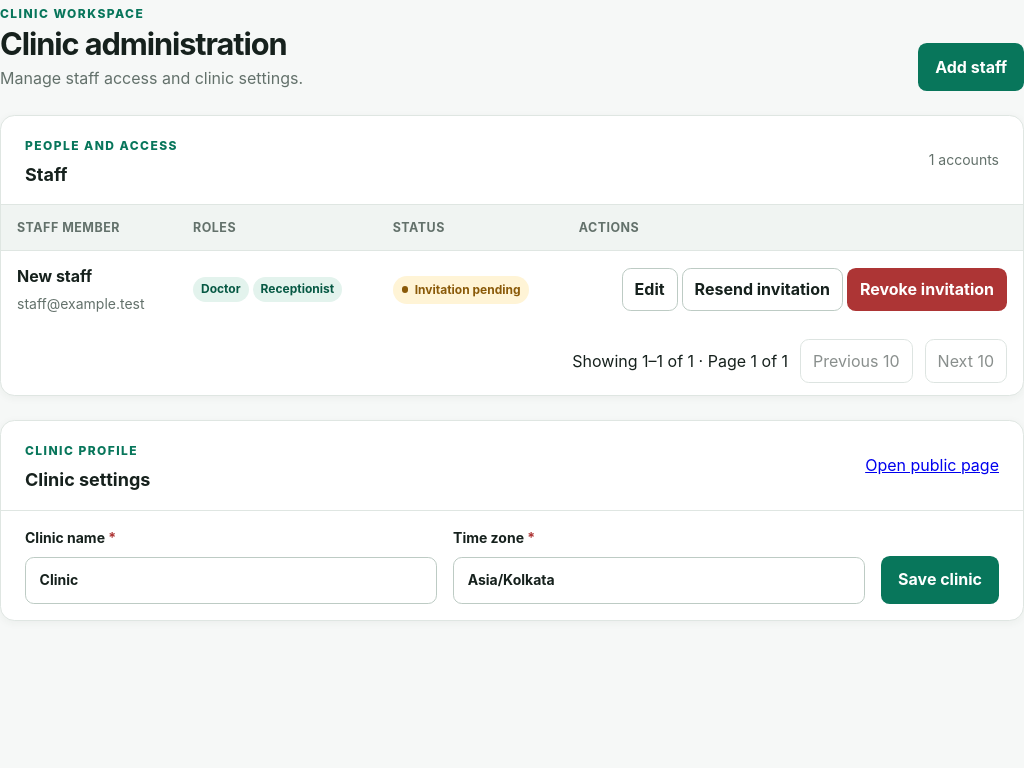
retains resend and revoke only for legacy pending invitations
This screenshot has width=1024, height=768.
Check: the button "Resend invitation" is shown, box [682,268,843,311]
Check: the button "Revoke invitation" is shown, box [847,268,1007,311]
Click the button "Add staff".
click(971, 67)  # box [918,43,1023,91]
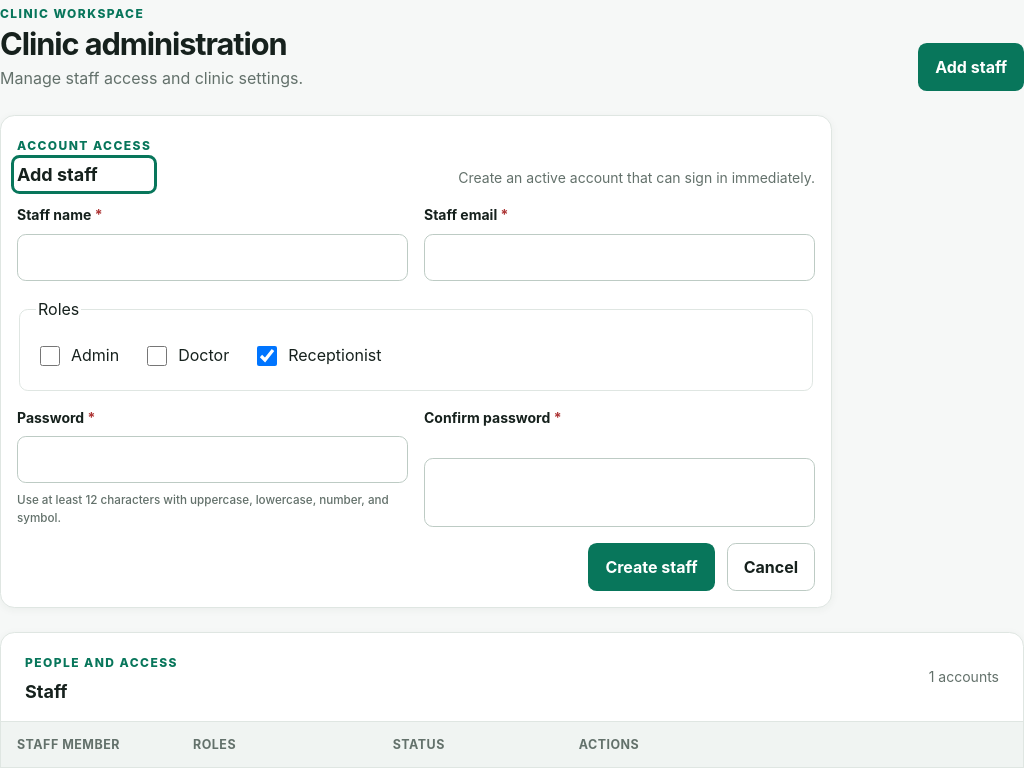
Check: the button "Create staff" is shown, box [588,543,715,591]
